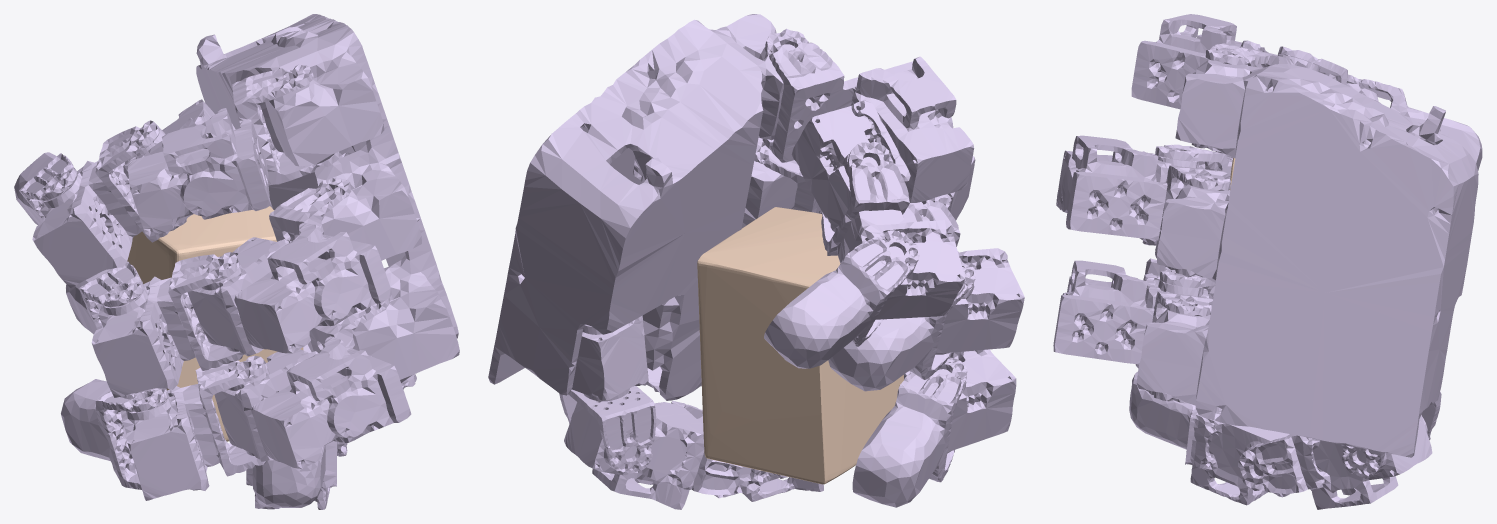
The picture shows the model from 3 angles, left to right: view 1: azimuth 30°, elevation 25°; view 2: azimuth 150°, elevation 25°; view 3: azimuth 270°, elevation 25°; orthographic projection. The views are drawn at different scales.
Visible parts, largest first — view 1: LEAP_hand, world; view 2: LEAP_hand, world; view 3: LEAP_hand.
Boxes of the visible parts, x1=… form: LEAP_hand: x1=14, y1=14, x2=459, y2=509; world: x1=127, y1=206, x2=303, y2=441; LEAP_hand: x1=488, y1=14, x2=1024, y2=509; world: x1=697, y1=207, x2=903, y2=484; LEAP_hand: x1=1053, y1=14, x2=1482, y2=509.
Bounding box in the file's own units: 0.1671 × 0.1727 × 0.1509.
